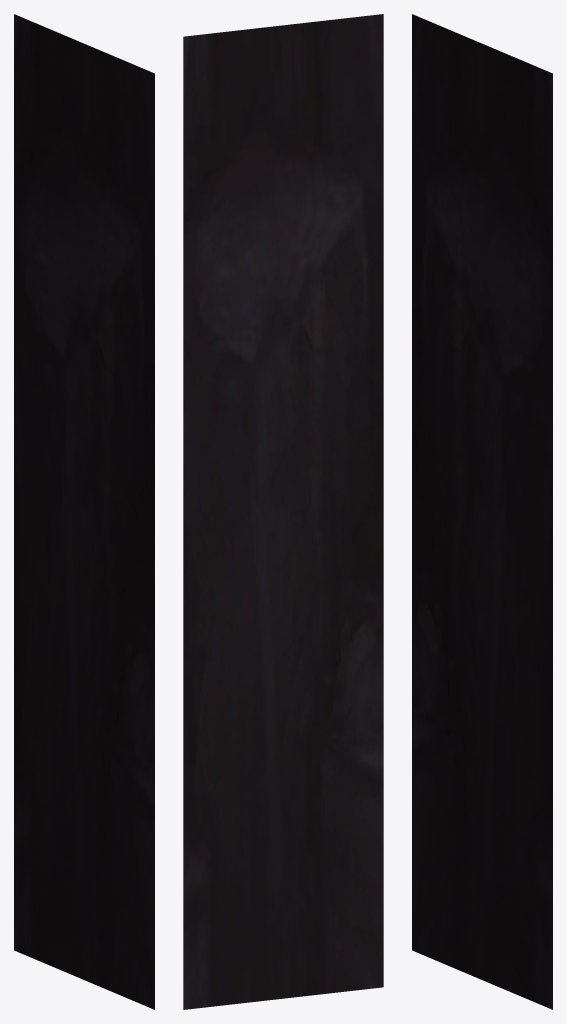
The model's file is cave_half_convex_01.fbx.
3 renders of one model, left to right at view 1: azimuth 90°, elevation 25°; view 2: azimuth 150°, elevation 25°; view 3: azimuth 270°, elevation 25°, orthographic. The views are drawn at different scales.
Parts seen in each view (by area): view 1: cave_tileset/wall01_half_mat; view 2: cave_tileset/wall01_half_mat; view 3: cave_tileset/wall01_half_mat.
Part boxes in pixels (x1,y1,x2,y2): cave_tileset/wall01_half_mat: [14, 14, 154, 1009]; cave_tileset/wall01_half_mat: [183, 14, 383, 1009]; cave_tileset/wall01_half_mat: [412, 14, 552, 1009].
Bounding box in the file's own units: 0.375 × 2.75 × 0.375.
